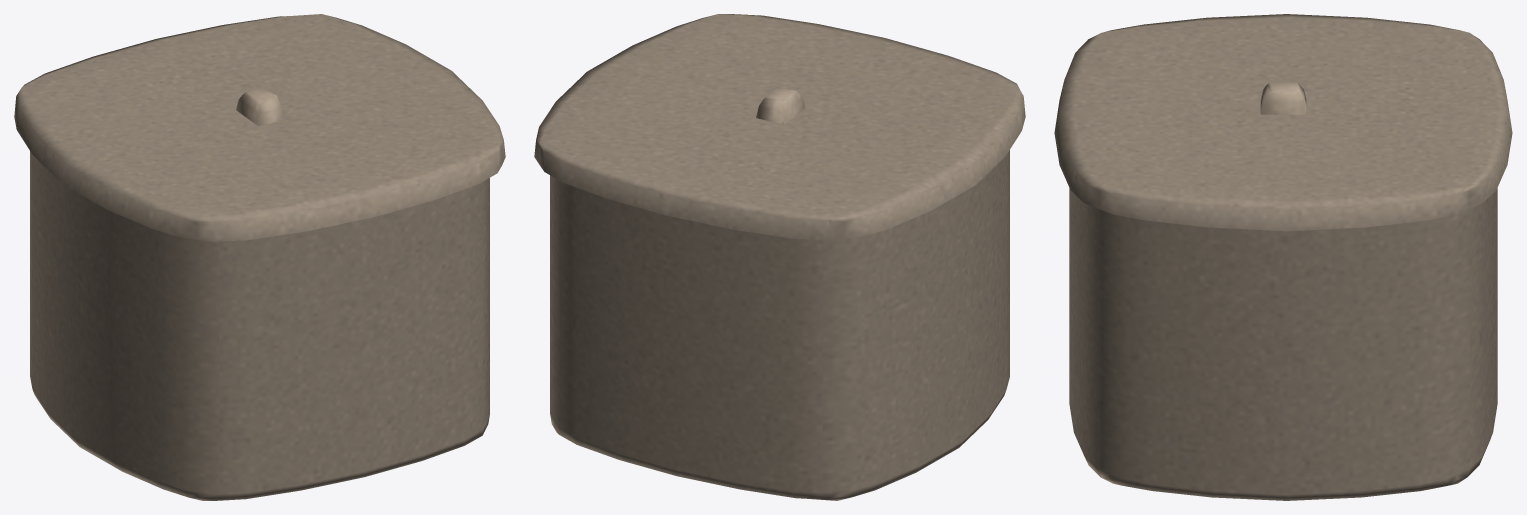
The model's file is TrashBucket.fbx.
3 views of the same model, side by side, from view 1: azimuth 30°, elevation 25°; view 2: azimuth 150°, elevation 25°; view 3: azimuth 270°, elevation 25° (orthographic). The views are drawn at different scales.
Parts seen in each view (by area): view 1: pSphere2; view 2: pSphere2; view 3: pSphere2.
Part boxes in pixels (left/top/right/bottom): pSphere2: left=14, top=14, right=505, bottom=500; pSphere2: left=534, top=14, right=1025, bottom=500; pSphere2: left=1054, top=14, right=1512, bottom=500.
Size of the model in its own units: 16.65 by 12.65 by 16.13.
